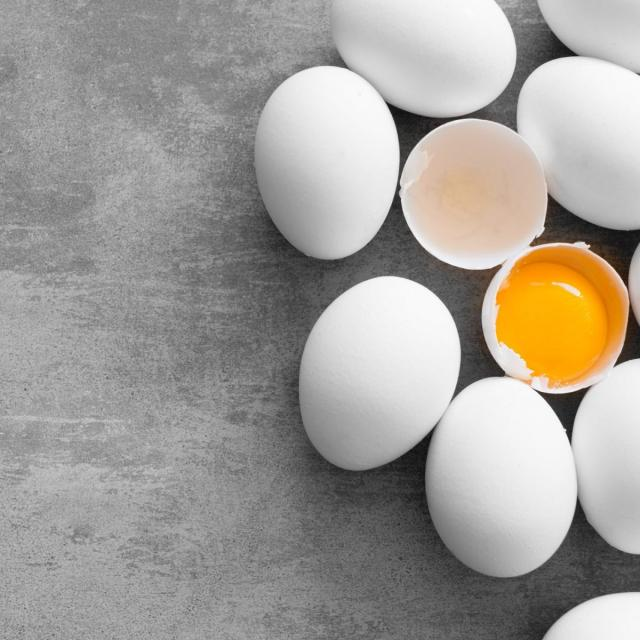egg: (299, 276, 462, 472), (426, 376, 578, 577), (255, 65, 400, 260), (332, 0, 518, 119), (517, 56, 640, 231), (576, 359, 640, 555)
